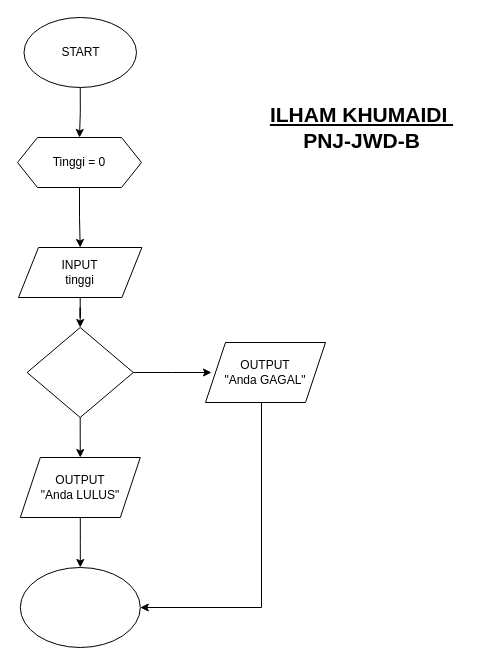
This 479x665 diagram has some shape labels left out. The shapes that lost their labels are listed below. From the top down, each one's centre as x and y in pixels, then its label:
[79,372]: IF tinggi >= 185
[79,607]: FINISH
